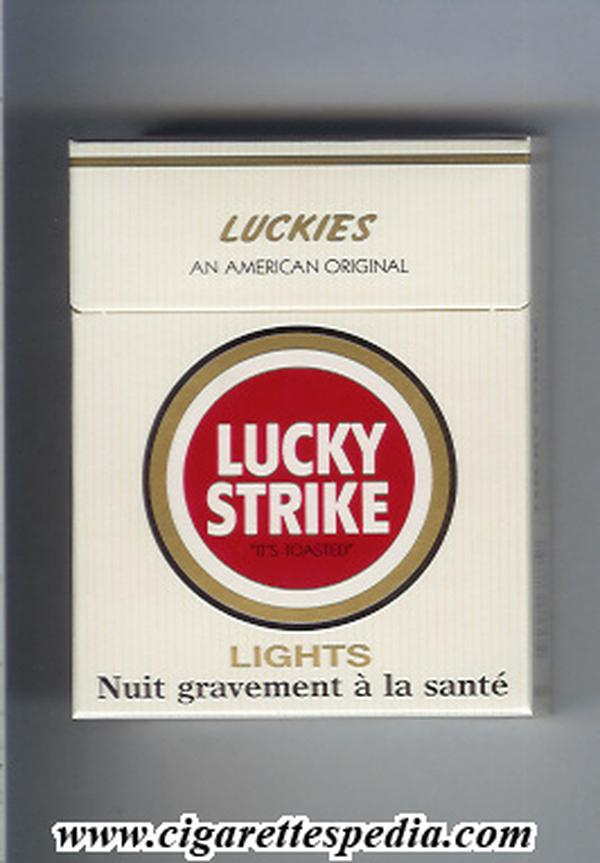lucky_strike_red: (74, 145, 534, 717)
